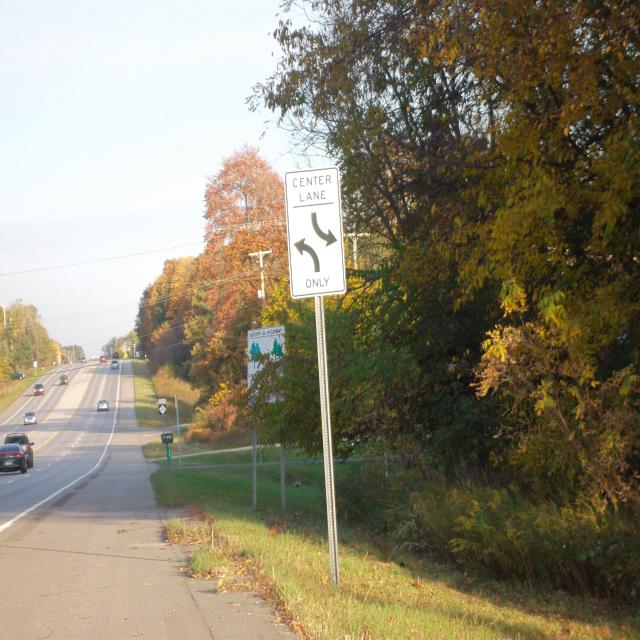regulatory: (282, 164, 345, 300)
